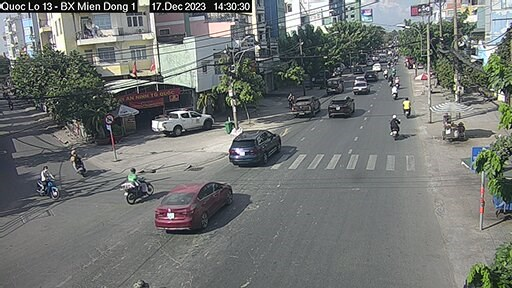car: (161, 182, 236, 232), (229, 127, 285, 166), (150, 109, 215, 135), (290, 94, 320, 117), (327, 95, 355, 117), (352, 78, 372, 93), (326, 78, 345, 92), (360, 69, 380, 82), (373, 62, 382, 73)
motorbike: (123, 170, 152, 205), (34, 170, 62, 200), (69, 149, 90, 182), (390, 114, 404, 141), (404, 97, 415, 118)
